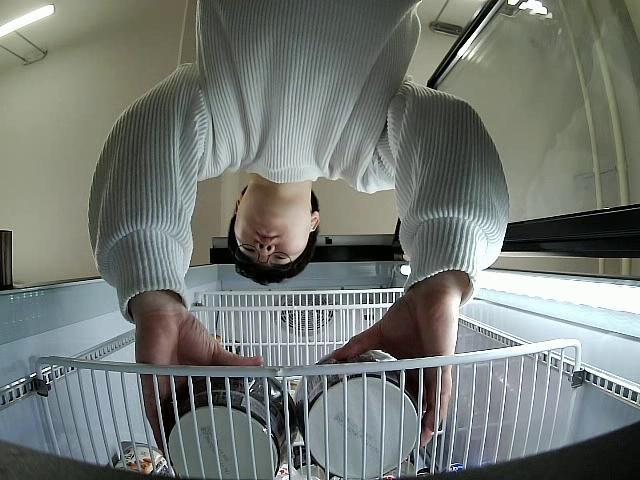07_buldak_L: (297, 351, 426, 480), (162, 378, 298, 480)
